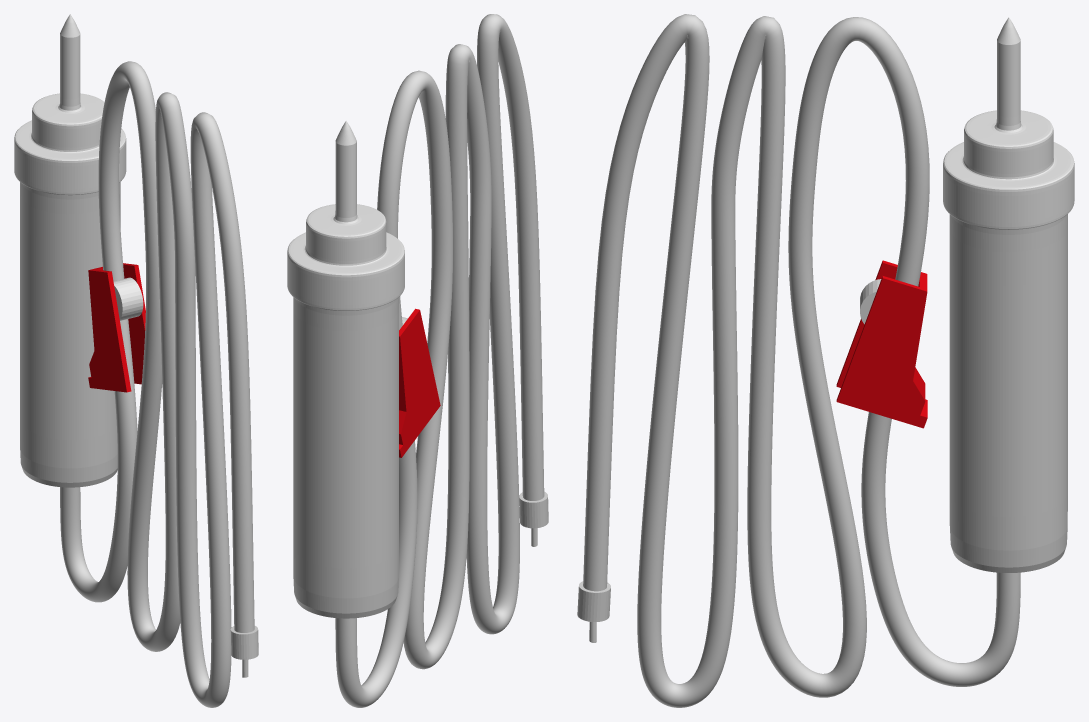
The model's file is infusion line with filter.fbx.
3 renders of one model, left to right at view 1: azimuth 30°, elevation 25°; view 2: azimuth 150°, elevation 25°; view 3: azimuth 270°, elevation 25°, orthographic. The views are drawn at different scales.
Parts seen in each view (by area): view 1: NurbsPath, Cylinder.002, Cylinder.001, Cube.002; view 2: NurbsPath, Cylinder.002, Cylinder.001, Cube.002; view 3: NurbsPath, Cylinder.002, Cylinder.001, Cube.002.
Part boxes in pixels (x1,y1,x2,y2): NurbsPath: (60,61,254,707); Cylinder.002: (20,182,258,677); Cylinder.001: (14,14,143,320); Cube.002: (88,263,145,392); NurbsPath: (335,14,544,707); Cylinder.002: (293,297,548,618); Cylinder.001: (287,121,407,325); Cube.002: (399,308,440,457); NurbsPath: (583,14,1020,707); Cylinder.002: (577,214,1067,642); Cylinder.001: (860,17,1074,324); Cube.002: (836,260,927,428).
Size of the model in its own units: 221 by 1283 by 836.
